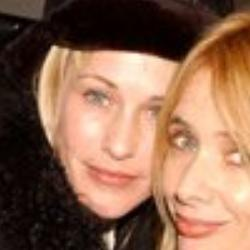face: (21, 20, 185, 218), (157, 11, 250, 247)
